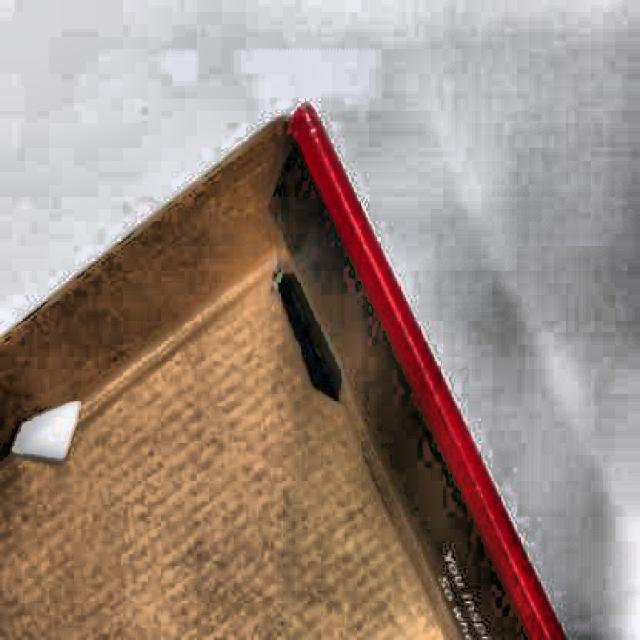Cardbox: (0, 101, 571, 640)
